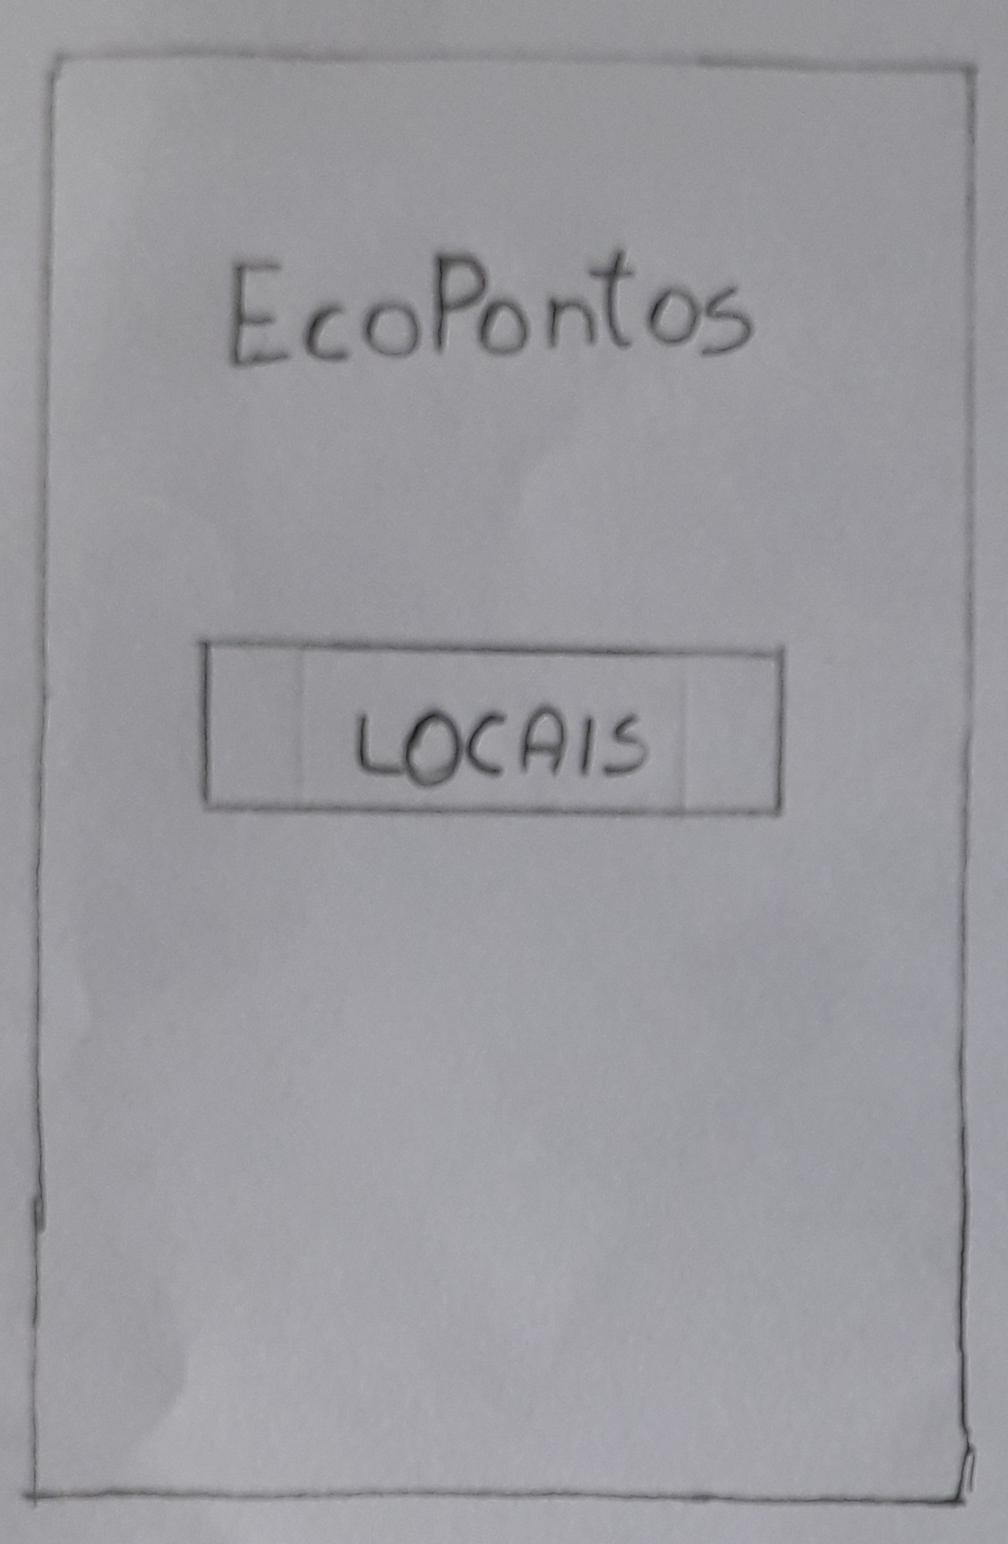Button: (198, 637, 784, 817)
Label: (222, 232, 763, 377)
Screen: (36, 50, 976, 1507)
